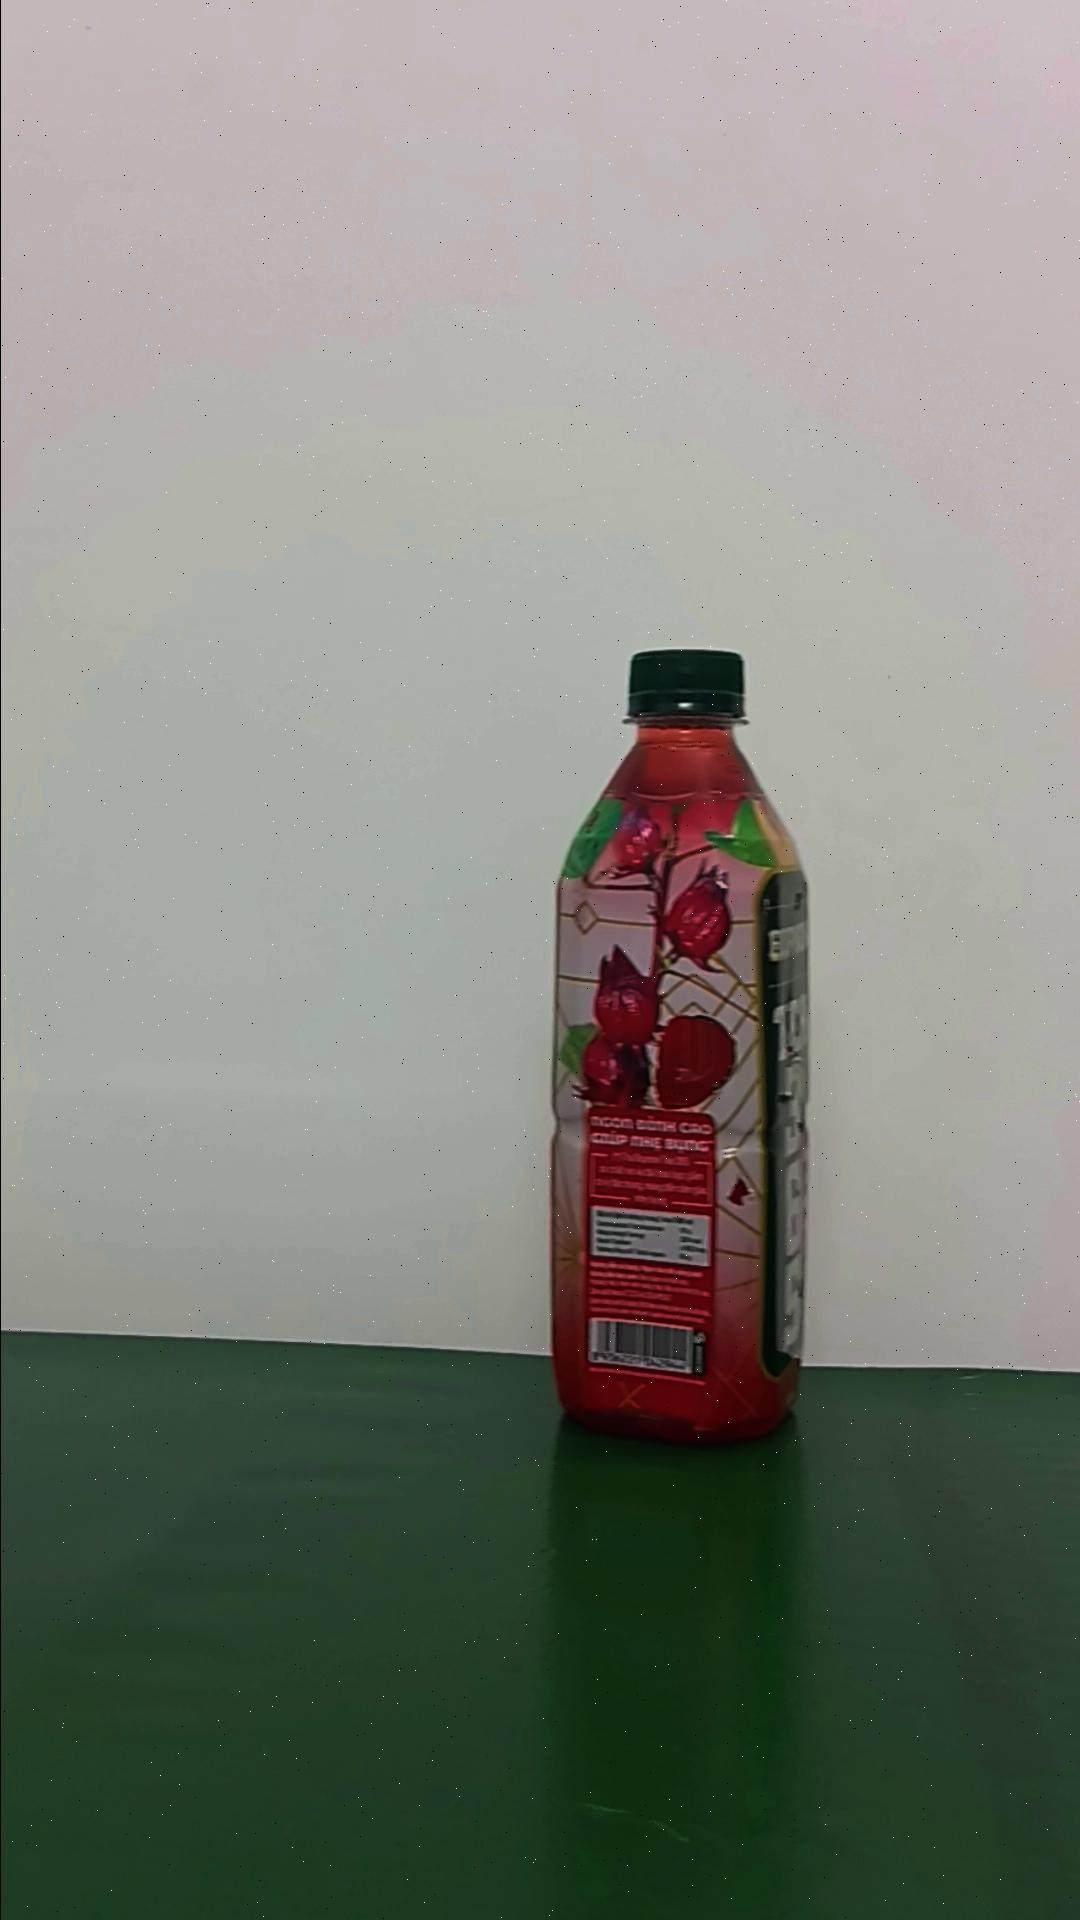loi rach va lap chai: (549, 642, 808, 1451)
